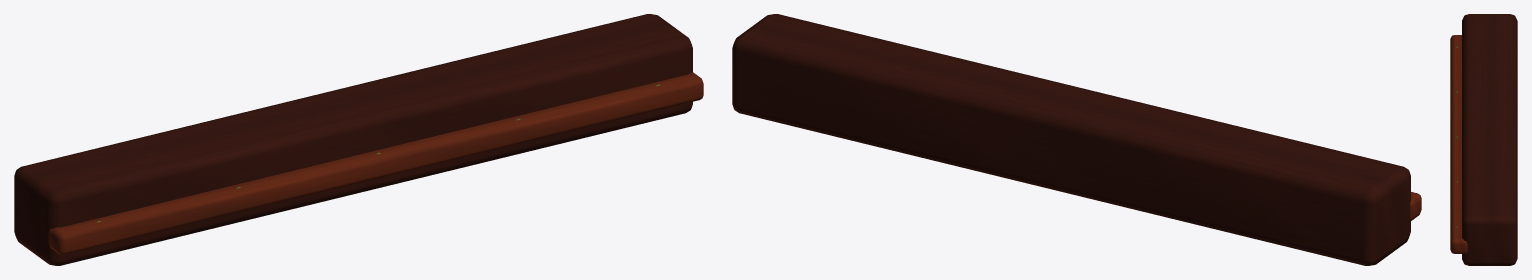
Rendered from 12_Modular_CeilingBeam.fbx.
The picture shows the model from 3 angles, left to right: view 1: azimuth 30°, elevation 25°; view 2: azimuth 150°, elevation 25°; view 3: azimuth 270°, elevation 25°; orthographic projection. The views are drawn at different scales.
Visible parts, largest first — view 1: CeilingBeam_Core.001, CeilingBeam_Crown.001; view 2: CeilingBeam_Core.001; view 3: CeilingBeam_Core.001, CeilingBeam_Crown.001.
Part boxes in pixels (x1,y1,x2,y2): CeilingBeam_Core.001: [14, 14, 692, 265]; CeilingBeam_Crown.001: [48, 72, 703, 254]; CeilingBeam_Core.001: [732, 14, 1410, 265]; CeilingBeam_Core.001: [1462, 14, 1517, 265]; CeilingBeam_Crown.001: [1450, 35, 1467, 253].
Bounding box in the file's own units: 3 × 0.34 × 0.41.
3 materials, 3 textured.
